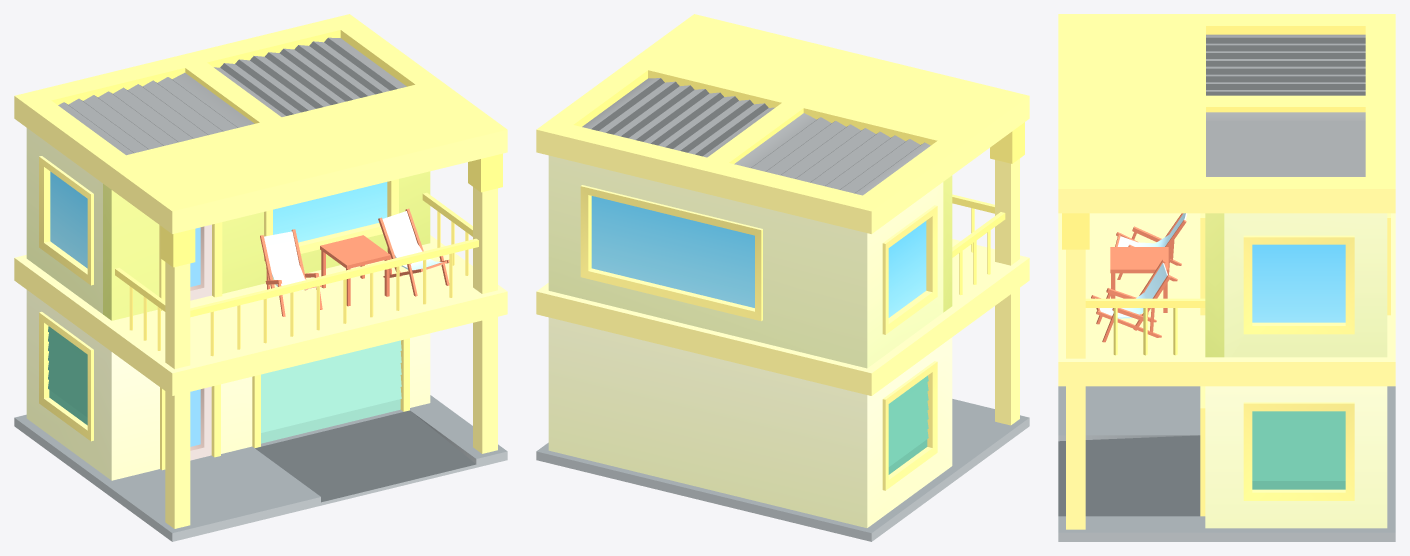
Rendered from city2-building-living-13.glb.
The picture shows the model from 3 angles, left to right: view 1: azimuth 30°, elevation 25°; view 2: azimuth 150°, elevation 25°; view 3: azimuth 270°, elevation 25°; orthographic projection. The views are drawn at different scales.
Visible parts, largest first — view 1: Building_Living_13; view 2: Building_Living_13; view 3: Building_Living_13.
Part boxes in pixels (bbox=[...]): Building_Living_13: bbox=[14, 14, 507, 541]; Building_Living_13: bbox=[536, 14, 1029, 541]; Building_Living_13: bbox=[1058, 14, 1395, 541].
Size of the model in its own units: 8.03 by 7.56 by 6.55.
1 material, 1 textured.
